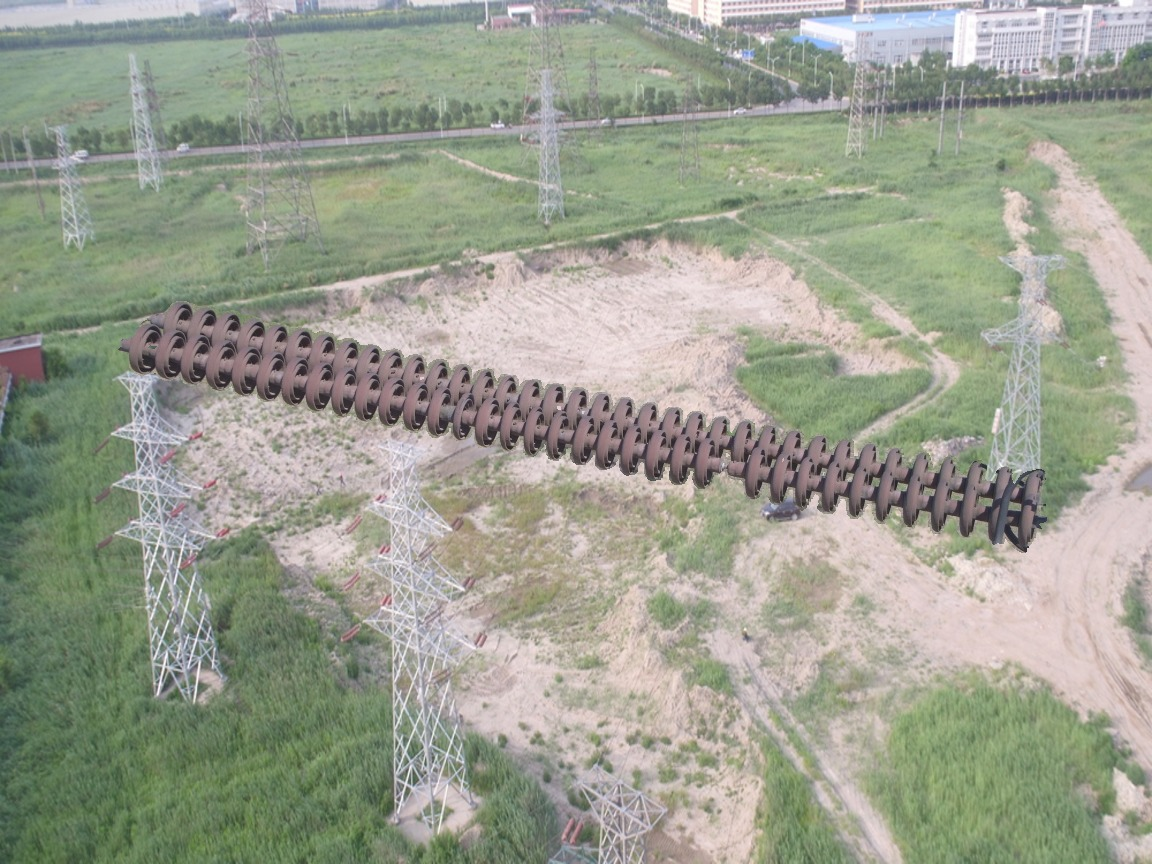defect: (686, 434, 769, 501)
